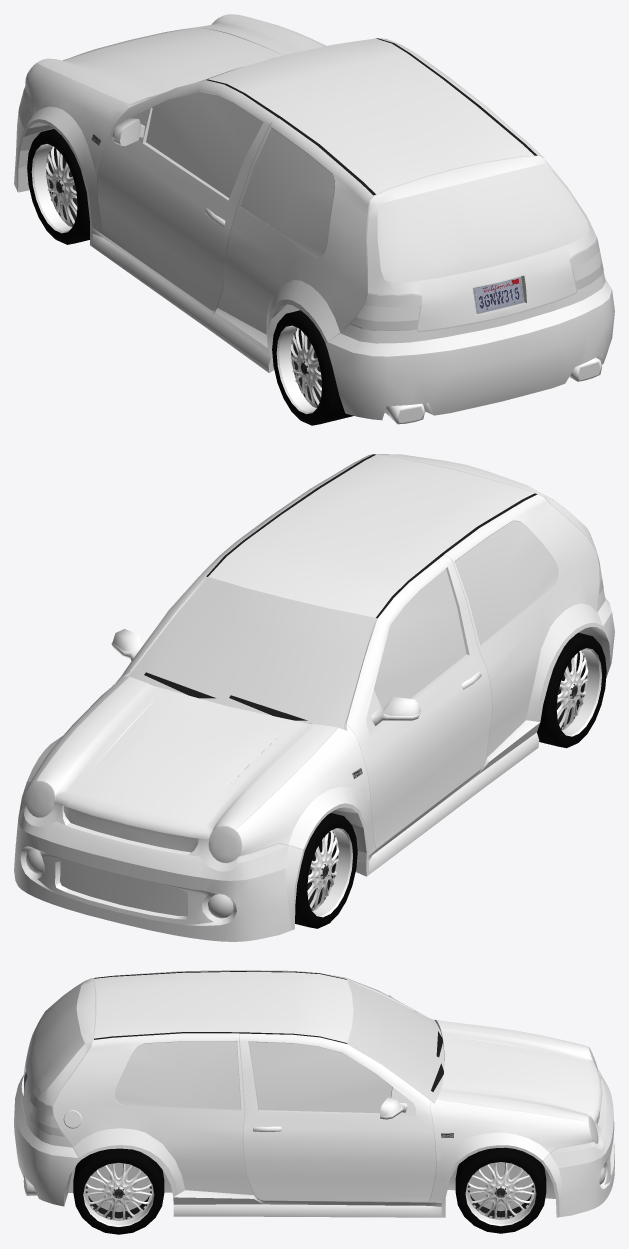
Rendered from MCLA_VA_GOLFR32_04.glb.
The picture shows the model from 3 angles, top to bottom: view 1: azimuth 30°, elevation 25°; view 2: azimuth 150°, elevation 25°; view 3: azimuth 270°, elevation 25°; orthographic projection. The views are drawn at different scales.
Parts seen in each view (by area): view 1: va_golfr32_04/resources/vehicle/va_golfr32_04/body_lod_0.xrs (×6); view 2: va_golfr32_04/resources/vehicle/va_golfr32_04/body_lod_0.xrs (×6); view 3: va_golfr32_04/resources/vehicle/va_golfr32_04/body_lod_0.xrs (×6).
Boxes of the visible parts, box(x1,y1,x2,y2) form: va_golfr32_04/resources/vehicle/va_golfr32_04/body_lod_0.xrs (×6): box(14, 14, 614, 425); va_golfr32_04/resources/vehicle/va_golfr32_04/body_lod_0.xrs (×6): box(14, 454, 614, 941); va_golfr32_04/resources/vehicle/va_golfr32_04/body_lod_0.xrs (×6): box(14, 970, 614, 1234).
Bounding box in the file's own units: 1.9 × 1.41 × 4.2.
12 materials, 7 textured.
